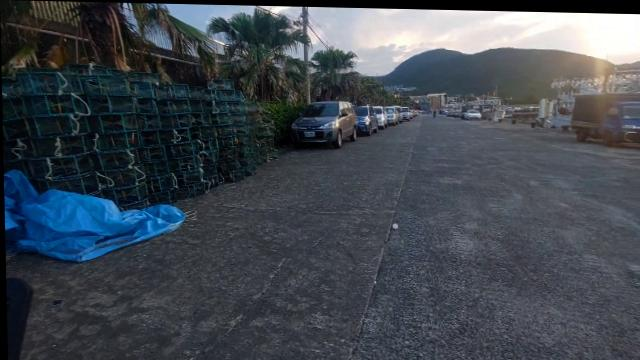pollute: (4, 169, 185, 263)
